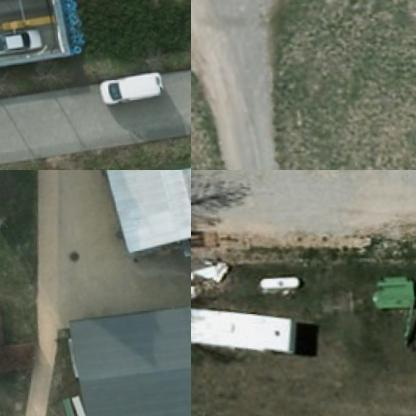camping car: (191, 298, 292, 356)
car: (96, 58, 157, 116), (0, 11, 50, 72)
